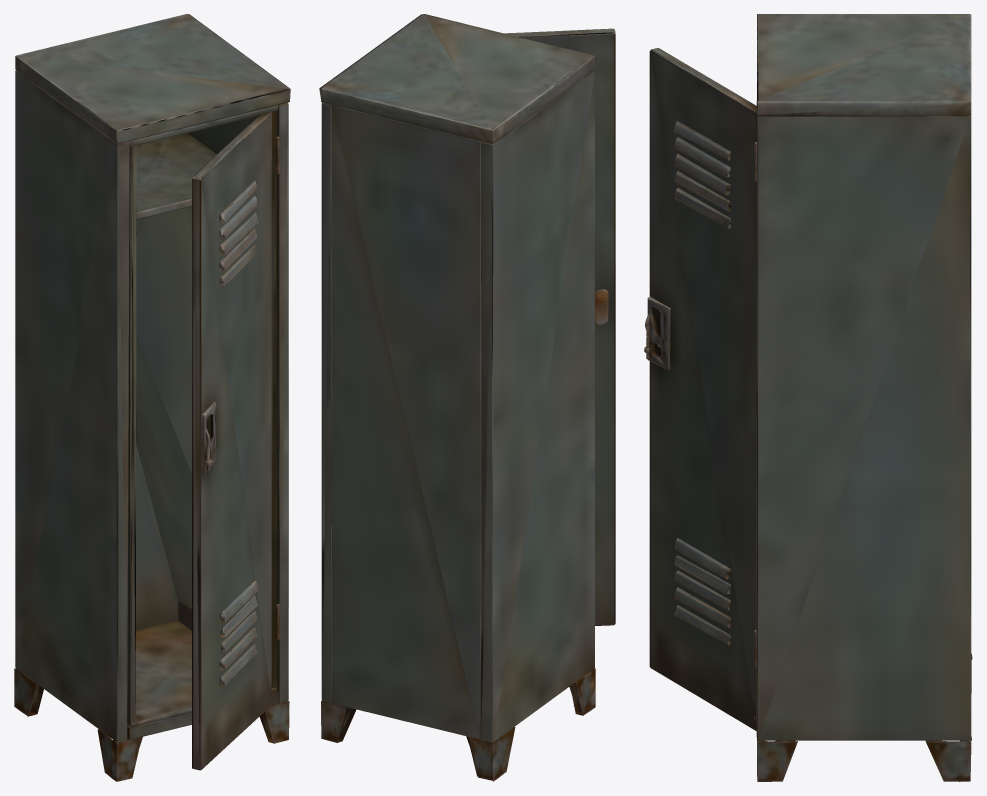
File: locker.glb
The picture shows the model from 3 angles, left to right: view 1: azimuth 30°, elevation 25°; view 2: azimuth 150°, elevation 25°; view 3: azimuth 270°, elevation 25°; orthographic projection. The views are drawn at different scales.
Parts seen in each view (by area): view 1: geometry_0; view 2: geometry_0; view 3: geometry_0.
Part boxes in pixels (x1,y1,x2,y2): geometry_0: (14, 14, 290, 781); geometry_0: (319, 14, 615, 781); geometry_0: (644, 14, 972, 781).
Bounding box in the file's own units: 0.2676 × 0.9512 × 0.4155.
Materials: 1 (1 with a texture image).
